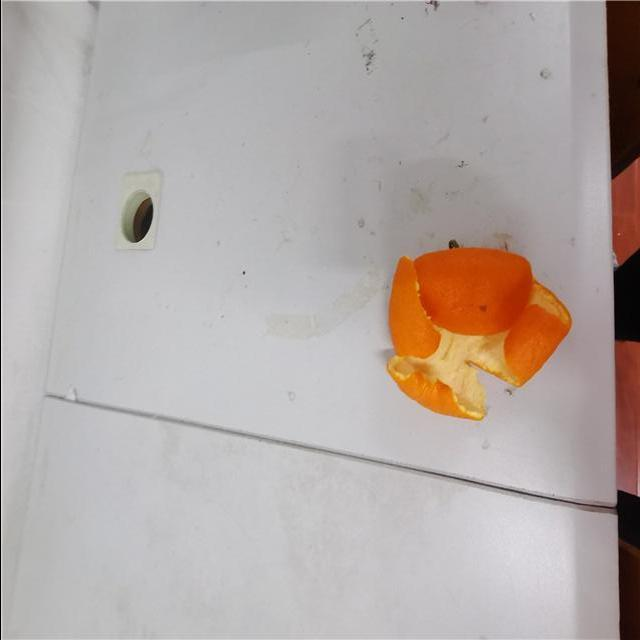orange peel: (381, 245, 571, 424)
